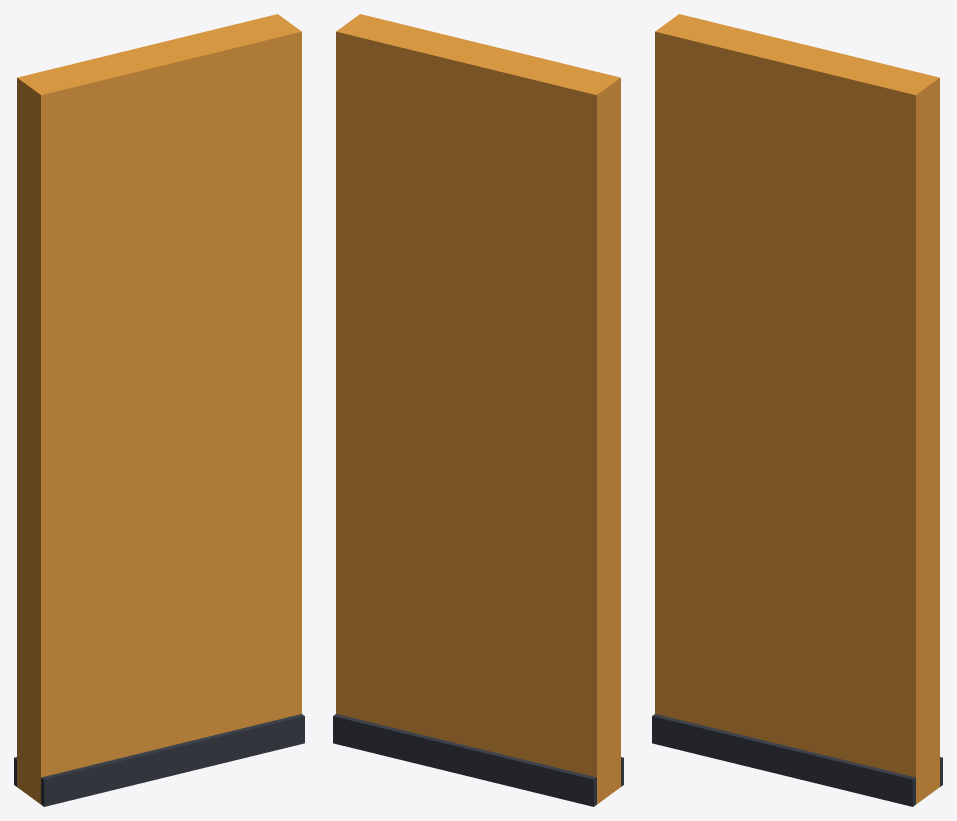
The model's file is WallAccent_1m.fbx.
The picture shows the model from 3 angles, left to right: view 1: azimuth 30°, elevation 25°; view 2: azimuth 150°, elevation 25°; view 3: azimuth 330°, elevation 25°; orthographic projection.
Visible parts, largest first — view 1: Wall.001, Baseboard.002; view 2: Wall.001, Baseboard.003; view 3: Wall.001, Baseboard.002.
Part boxes in pixels (<box>): Wall.001: <box>17,14,301,804</box>; Baseboard.002: <box>41,714,304,806</box>; Wall.001: <box>336,14,620,804</box>; Baseboard.003: <box>333,714,596,806</box>; Wall.001: <box>655,14,939,804</box>; Baseboard.002: <box>652,714,915,806</box>.
Size of the model in its own units: 1 by 2.6 by 0.2.
